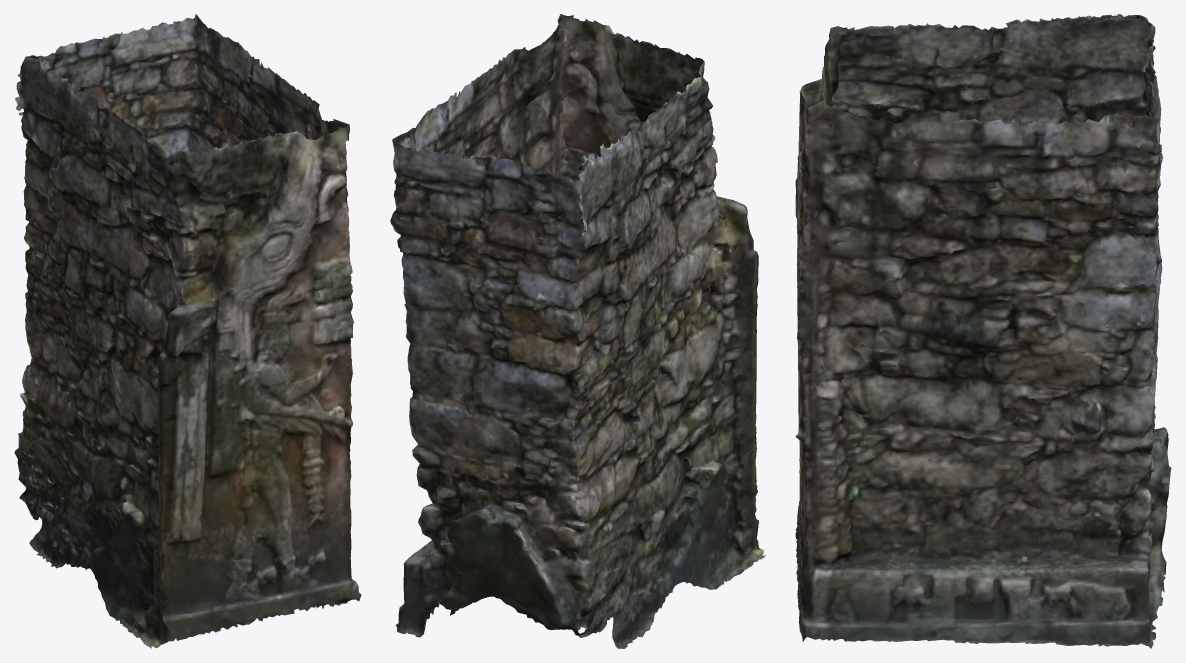
The model's file is maya-relief-kinich-ahkal.glb.
The picture shows the model from 3 angles, left to right: view 1: azimuth 30°, elevation 25°; view 2: azimuth 150°, elevation 25°; view 3: azimuth 270°, elevation 25°; orthographic projection. The views are drawn at different scales.
Visible parts, largest first — view 1: Object_2; view 2: Object_2; view 3: Object_2.
Boxes of the visible parts, bbox=[...] form: Object_2: bbox=[14, 14, 361, 648]; Object_2: bbox=[390, 14, 765, 648]; Object_2: bbox=[795, 14, 1171, 648].
Size of the model in its own units: 3.05 by 6.76 by 4.23.
Materials: 1 (1 with a texture image).
